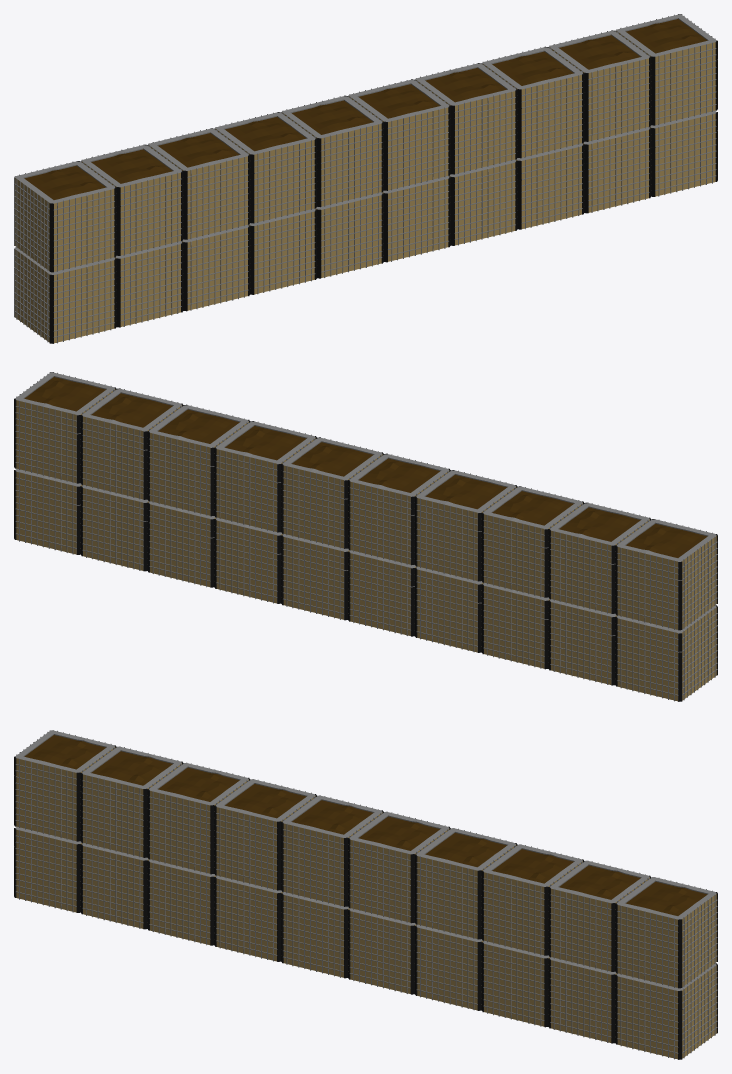
File: HescoBarrier 1.fbx
3 renders of one model, top to bottom at view 1: azimuth 30°, elevation 25°; view 2: azimuth 150°, elevation 25°; view 3: azimuth 330°, elevation 25°, orthographic.
Visible parts, largest first — view 1: HescoBarrier; view 2: HescoBarrier; view 3: HescoBarrier.
Part boxes in pixels (x1,y1,x2,y2): HescoBarrier: (14,14,717,343); HescoBarrier: (14,372,717,701); HescoBarrier: (14,730,717,1059).
Size of the model in its own units: 2047 by 418 by 205.
